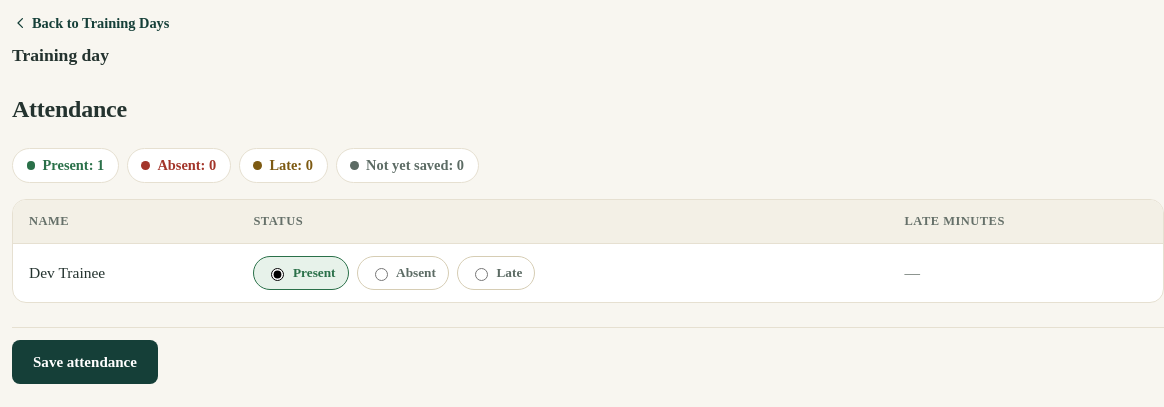
Supervisor attendance page › only shows the late-minutes input once Late is selected
Check: the text "Dev Trainee" is shown, box [13,244,237,302]
Click the radio button labelled "Late": (481,275) [475,268,488,281]
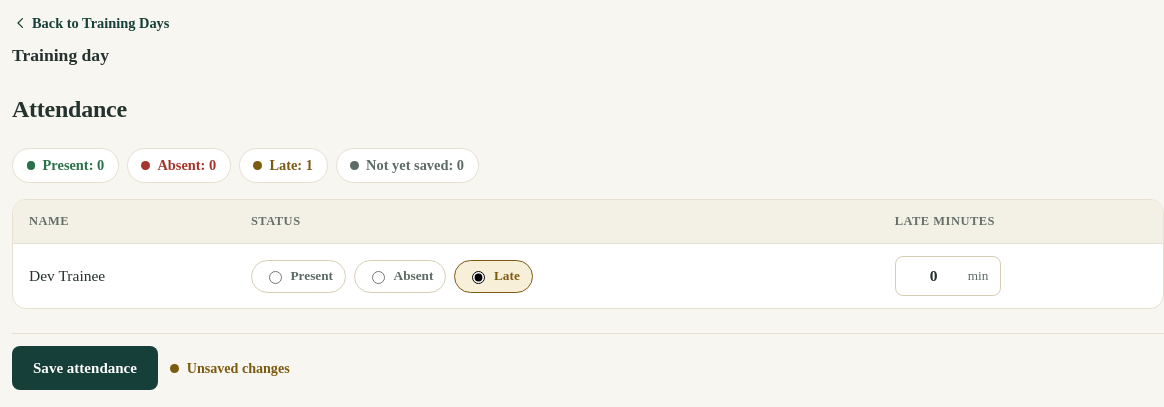
Check: the number field named "Late minutes" is shown, box [908,264,960,288]
